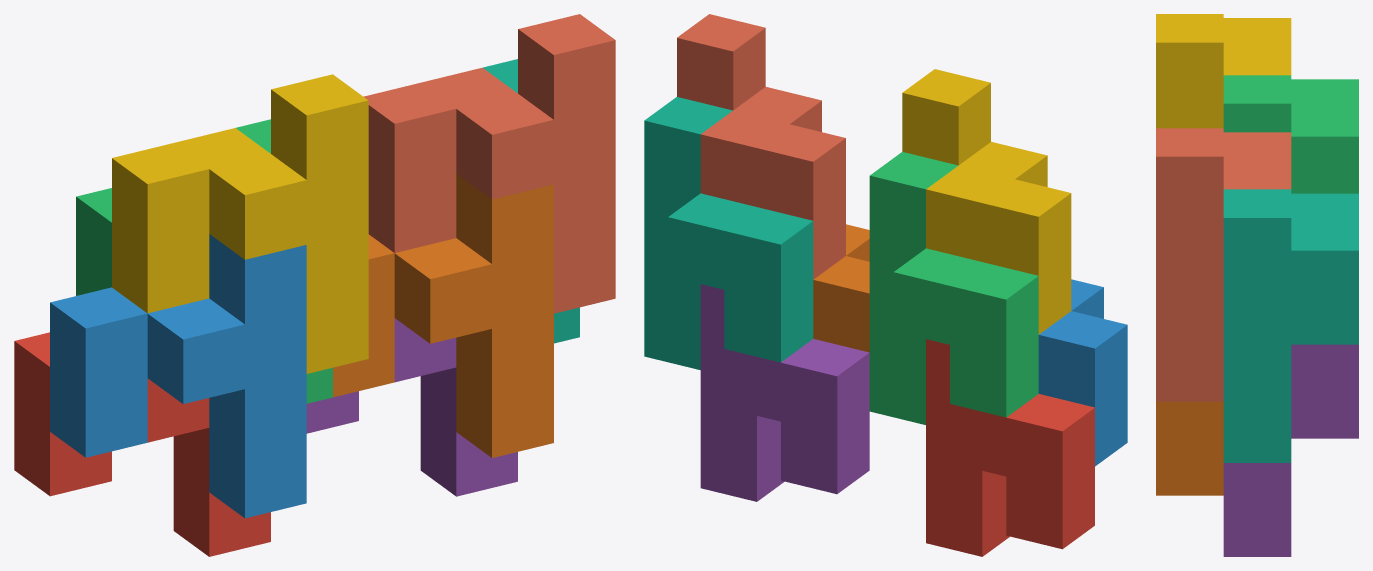
File: tiling.obj
3 views of the same model, side by side, from view 1: azimuth 30°, elevation 25°; view 2: azimuth 150°, elevation 25°; view 3: azimuth 270°, elevation 25° (orthographic). The views are drawn at different scales.
Visible parts, largest first — view 1: copy_1_domain_4, copy_1_domain_2, copy_1_domain_8, copy_1_domain_6, copy_1_domain_1, copy_1_domain_5, copy_1_domain_3, copy_1_domain_7; view 2: copy_1_domain_7, copy_1_domain_3, copy_1_domain_5, copy_1_domain_1, copy_1_domain_4, copy_1_domain_8, copy_1_domain_2, copy_1_domain_6; view 3: copy_1_domain_7, copy_1_domain_8, copy_1_domain_5, copy_1_domain_3, copy_1_domain_4, copy_1_domain_6.
Part boxes in pixels (x1,y1,x2,y2): copy_1_domain_4: (112,74,368,373); copy_1_domain_2: (50,234,306,518); copy_1_domain_8: (364,14,615,313); copy_1_domain_6: (333,173,553,457); copy_1_domain_1: (14,332,270,556); copy_1_domain_5: (306,318,517,496); copy_1_domain_3: (76,119,332,403); copy_1_domain_7: (483,59,579,343); copy_1_domain_7: (644,97,813,369); copy_1_domain_3: (869,152,1038,424); copy_1_domain_5: (700,284,869,501); copy_1_domain_1: (926,339,1094,556); copy_1_domain_4: (902,69,1071,334); copy_1_domain_8: (677,14,845,279); copy_1_domain_2: (1038,279,1127,466); copy_1_domain_6: (813,224,869,352); copy_1_domain_7: (1223,189,1358,462); copy_1_domain_8: (1156,128,1291,401); copy_1_domain_5: (1223,344,1358,556); copy_1_domain_3: (1223,75,1358,193); copy_1_domain_4: (1156,14,1291,128); copy_1_domain_6: (1156,401,1223,495).
Bounding box in the file's own units: 8 × 7 × 3.
